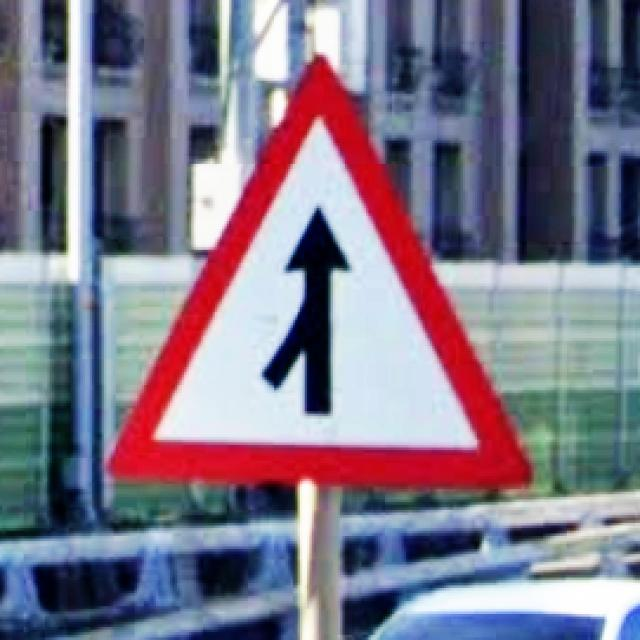leftmerge: (109, 55, 531, 492)
